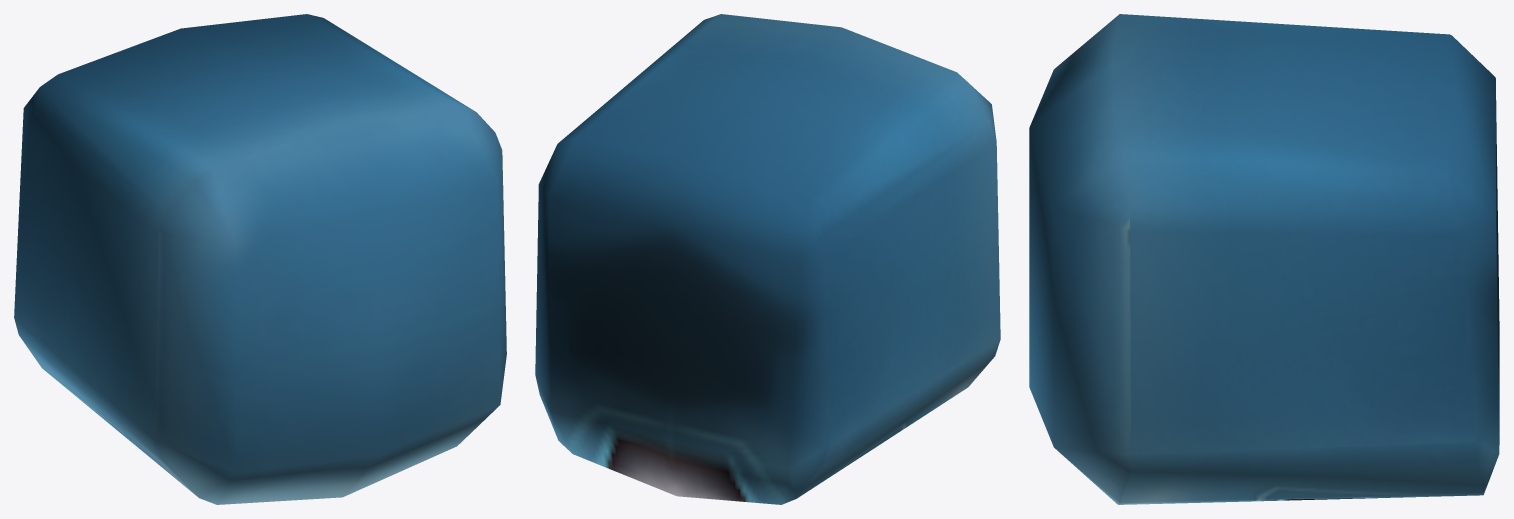
The model's file is Avatar_Doctress_H_Head_446cacec__Avatar_Doctress_C_75fdf0c3_c1f257.obj.
3 views of the same model, side by side, from view 1: azimuth 30°, elevation 25°; view 2: azimuth 150°, elevation 25°; view 3: azimuth 270°, elevation 25° (orthographic). The views are drawn at different scales.
Bounding box in the file's own units: 0.6737 × 0.6764 × 0.726.
Materials: 1 (1 with a texture image).
